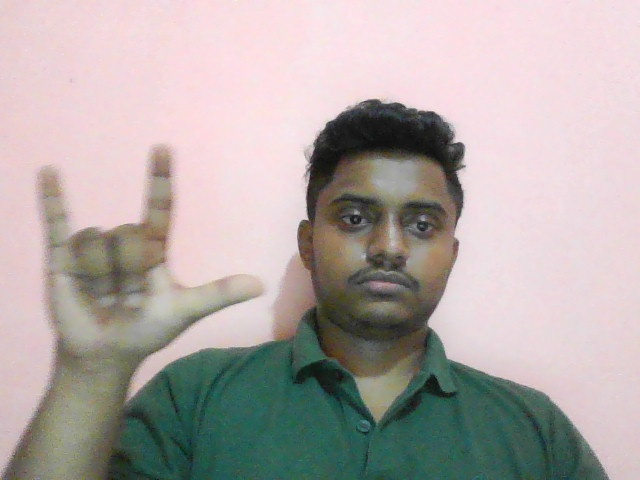I Love You: (29, 135, 278, 394)
